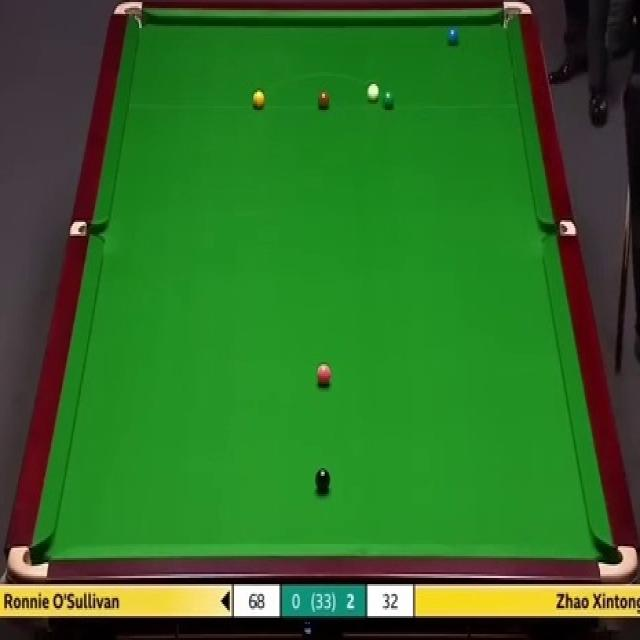black-ball: (314, 467, 331, 493)
blue-ball: (446, 27, 459, 44)
brown-ball: (316, 88, 331, 110)
green-ball: (380, 90, 395, 110)
pink-ball: (315, 363, 331, 386)
white-ball: (366, 82, 380, 103)
yellow-ball: (252, 88, 265, 109)
